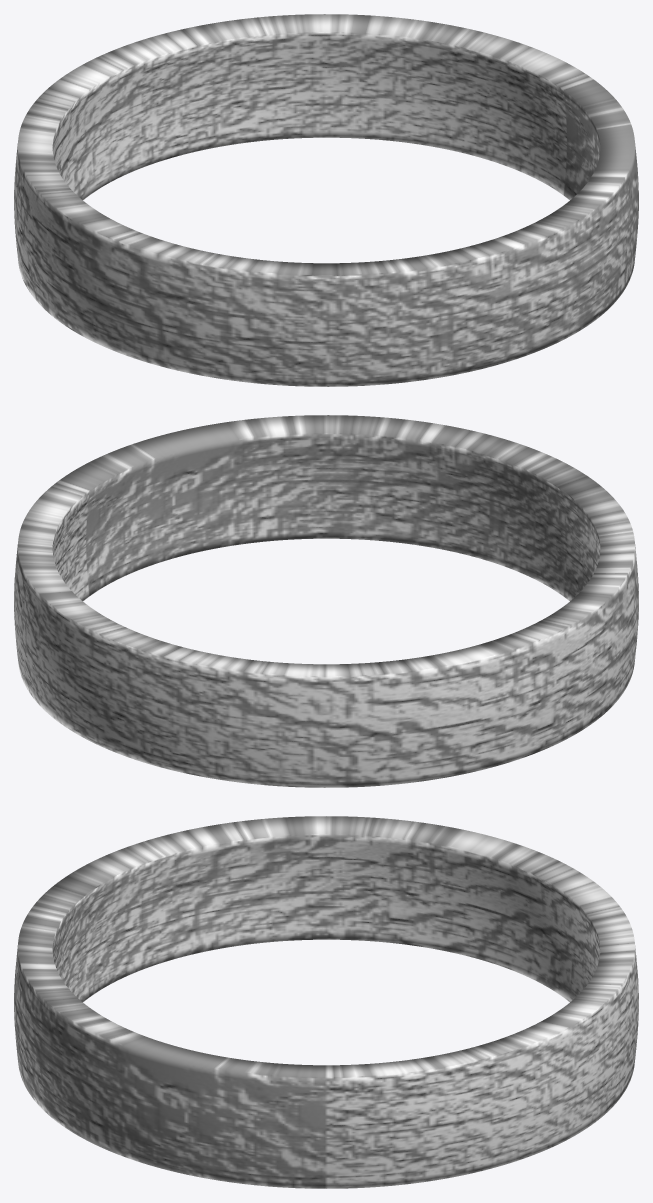
The model's file is anillo1plata.glb.
The picture shows the model from 3 angles, top to bottom: view 1: azimuth 30°, elevation 25°; view 2: azimuth 150°, elevation 25°; view 3: azimuth 270°, elevation 25°; orthographic projection.
Parts seen in each view (by area): view 1: Esfera; view 2: Esfera; view 3: Esfera.
Part boxes in pixels (left/top/right/bottom): Esfera: left=14, top=14, right=638, bottom=386; Esfera: left=14, top=415, right=638, bottom=787; Esfera: left=14, top=816, right=638, bottom=1188.
Bounding box in the file's own units: 3.37 × 0.6653 × 3.37.
1 material, 1 textured.
